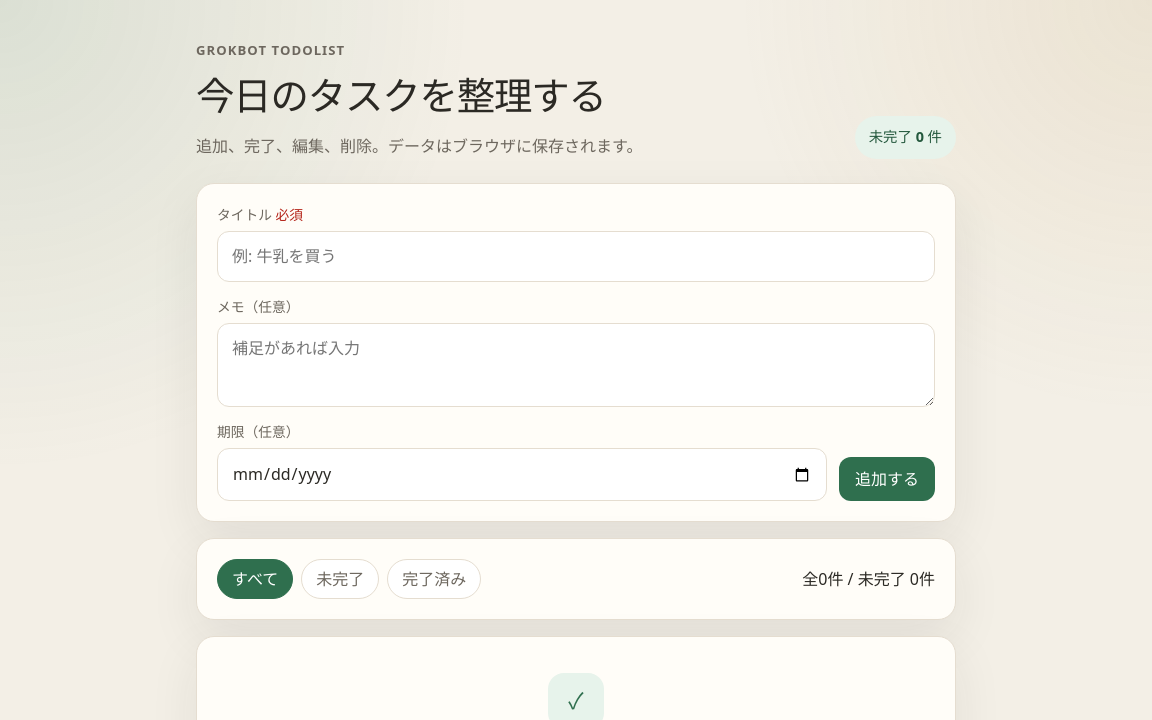
Scenario: App › filters active and completed todos
Type "未完了タスク" into the field labelled "タイトル 必須" at point(576, 256), box [217, 231, 935, 282]
Click the button "追加する" at point(887, 479), box [839, 457, 935, 501]
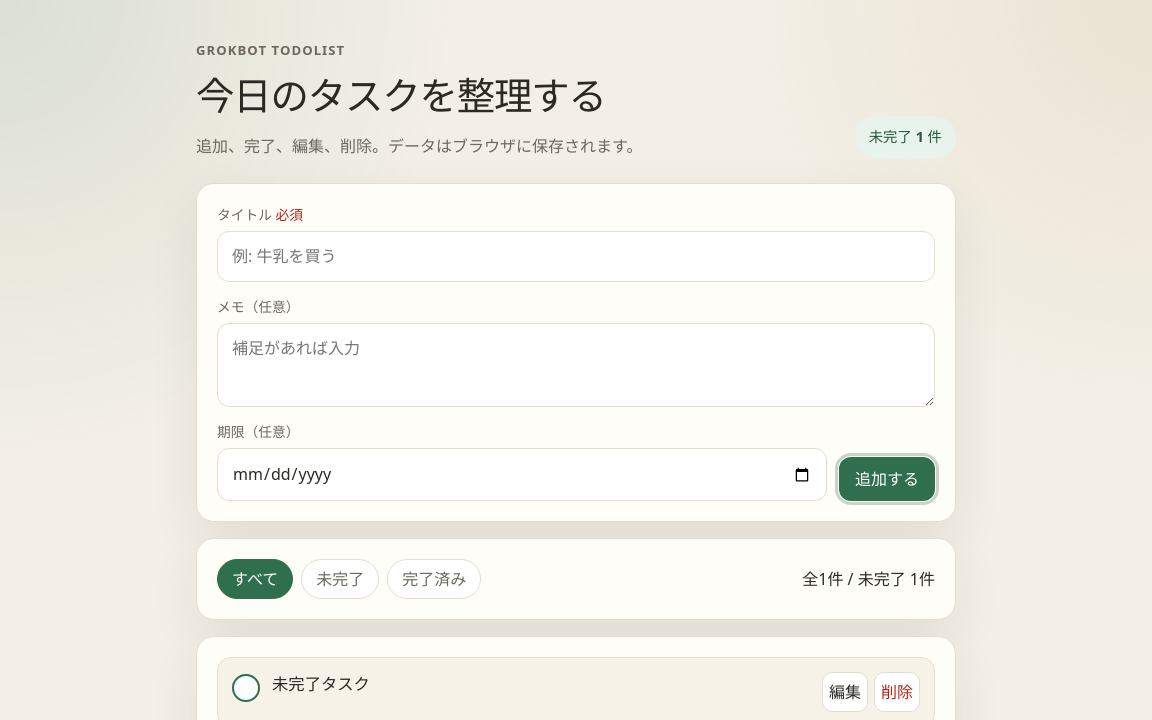
Type "完了させるタスク" into the field labelled "タイトル 必須" at point(576, 256), box [217, 231, 935, 282]
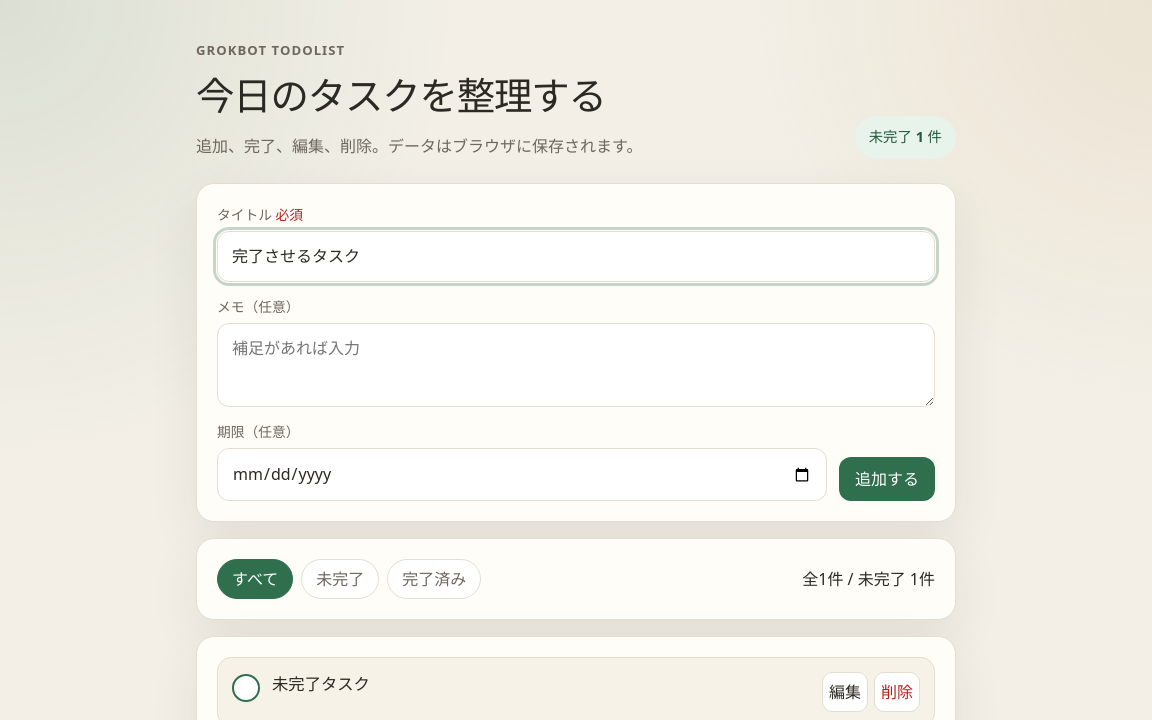
Click the button "追加する" at point(887, 479), box [839, 457, 935, 501]
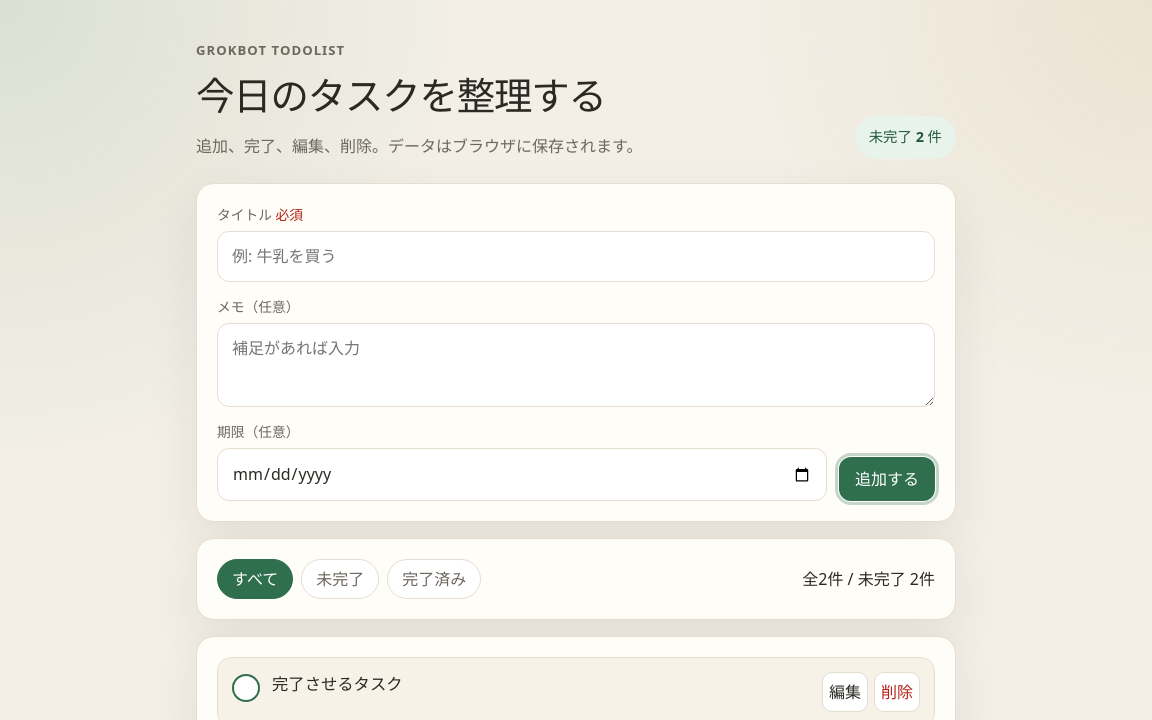
Click the button named "完了にする" at point(246, 688), box [232, 674, 260, 702]
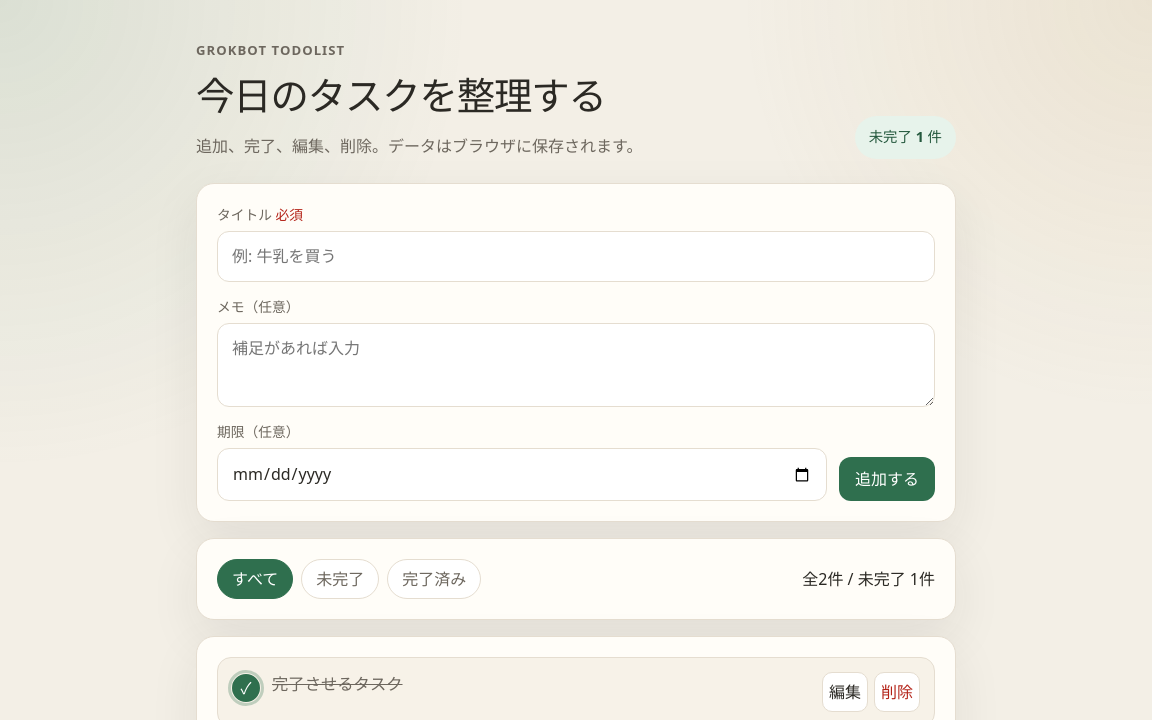
Click the button "未完了" at point(340, 579), box [301, 559, 379, 599]
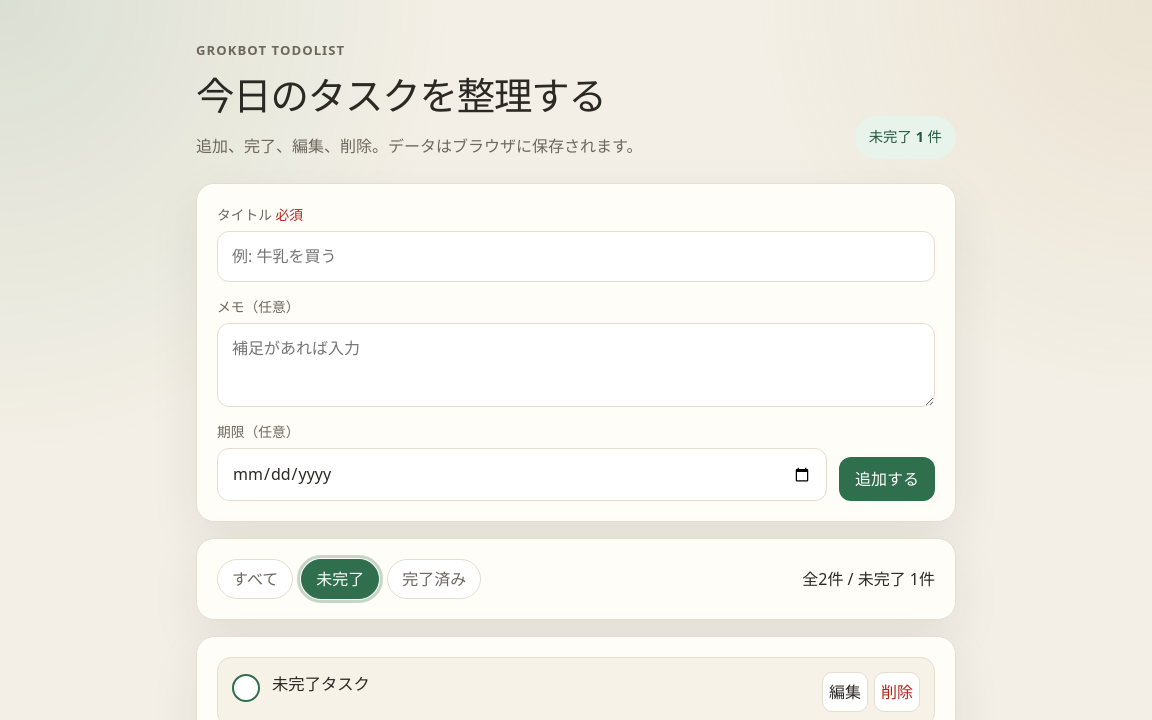
Now the heading "未完了タスク" is shown, box [272, 673, 370, 695]
Now the heading "完了させるタスク" is gone
Click the button "完了済み" at point(434, 579), box [387, 559, 481, 599]
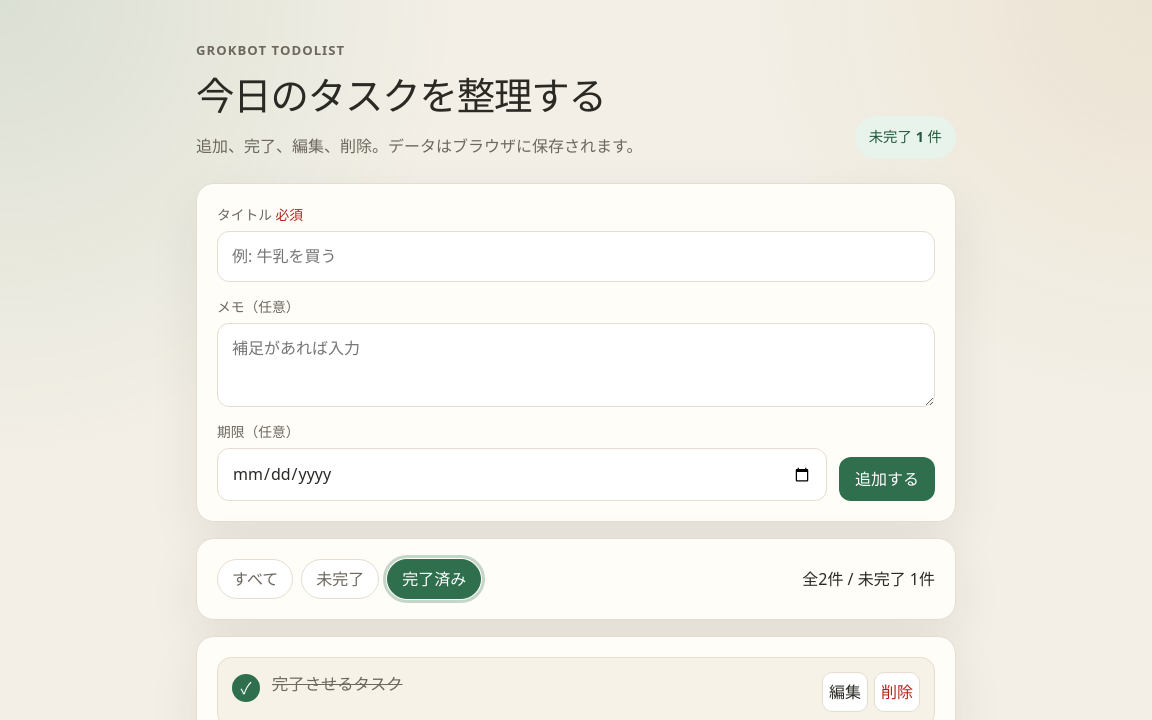
Now the heading "完了させるタスク" is shown, box [272, 673, 402, 695]
Now the heading "未完了タスク" is gone
